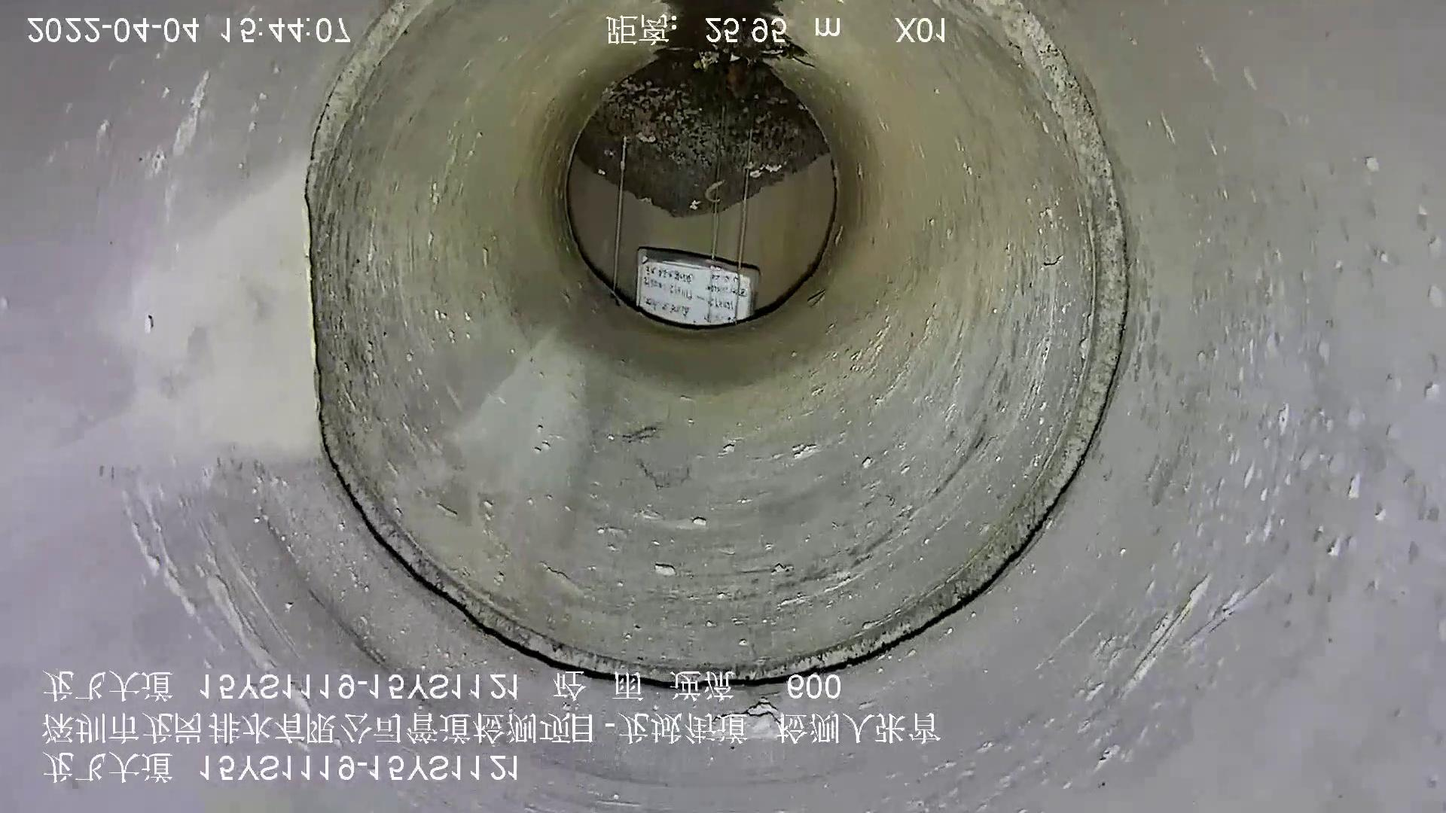CKTJ: (305, 1, 1132, 695)
